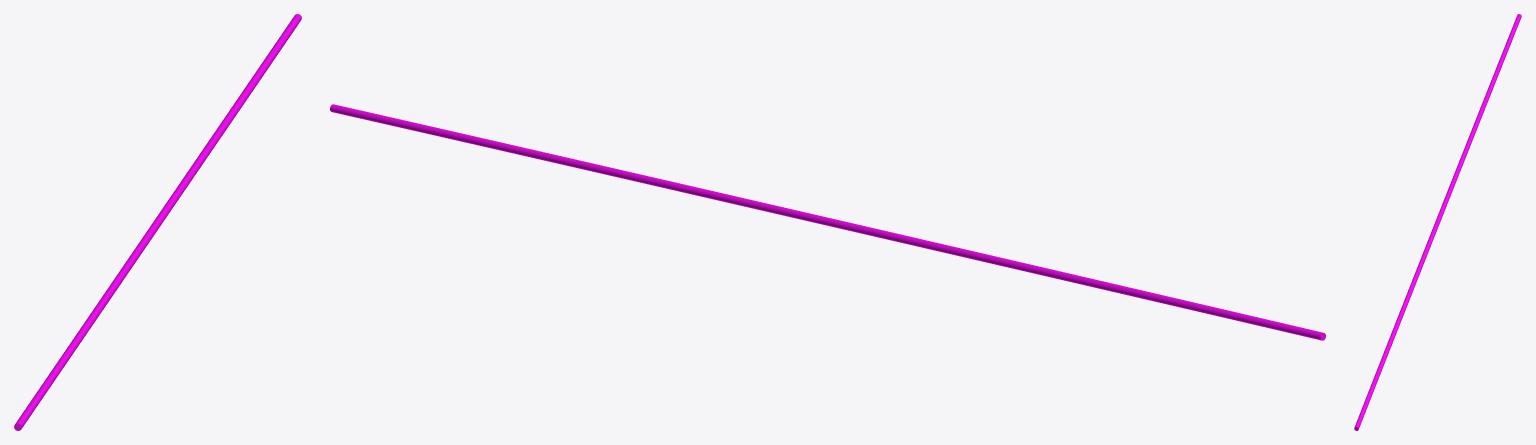
File: Event_420107950_electron_0.fbx
3 renders of one model, left to right at view 1: azimuth 90°, elevation 25°; view 2: azimuth 150°, elevation 25°; view 3: azimuth 270°, elevation 25°, orthographic. The views are drawn at different scales.
Visible parts, largest first — view 1: Model; view 2: Model; view 3: Model.
Part boxes in pixels (left/top/right/bottom): Model: left=14, top=14, right=301, bottom=430; Model: left=330, top=104, right=1325, bottom=340; Model: left=1354, top=14, right=1521, bottom=430.
Size of the model in its own units: 6.52 by 0.8539 by 1.42.
